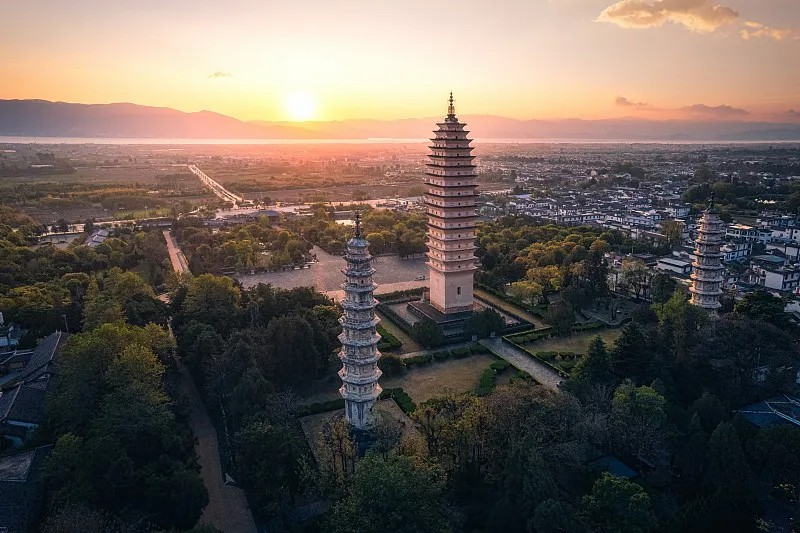ThreePagoda: (424, 92, 477, 314)
